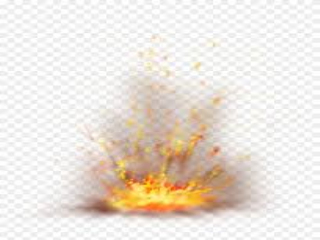fire: (97, 114, 255, 218)
